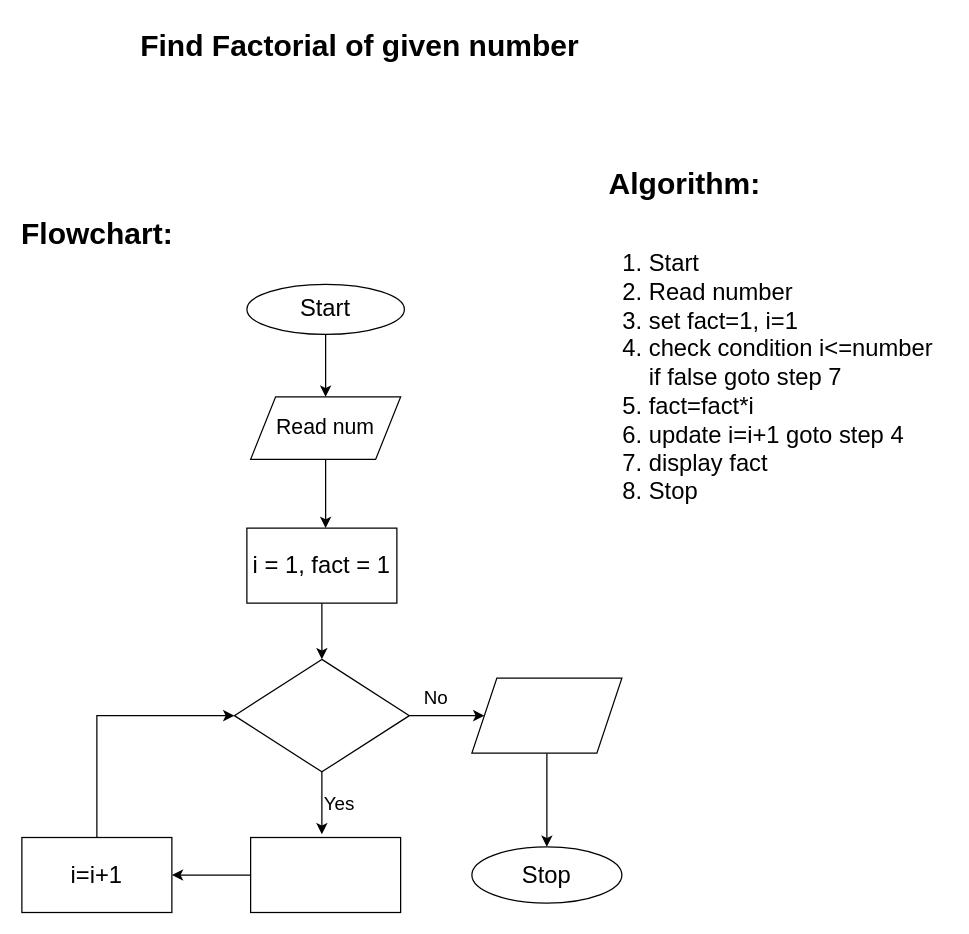
The diagram is 969 pixels wide and 934 high, and some of its shapes have lost their labels. Each missing label, with the box of its shape:
fact = fact*i: (249, 836, 401, 912)
i<=n: (233, 658, 409, 772)
Print fact: (471, 677, 622, 753)
